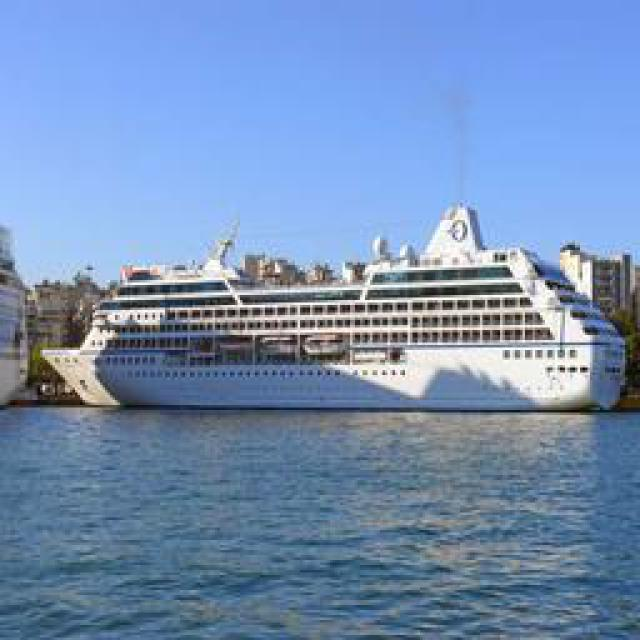Ship: (53, 201, 638, 421)
